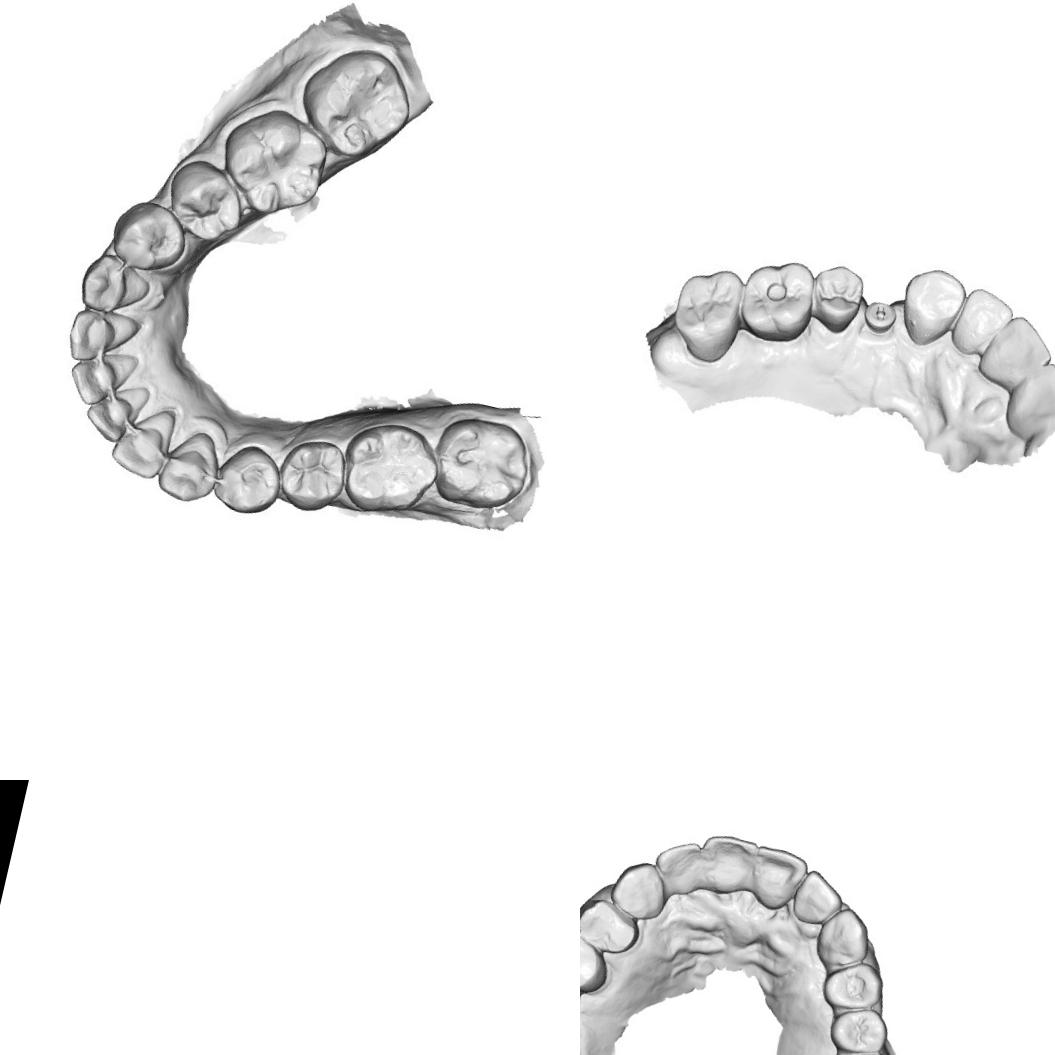canine: (891, 260, 972, 357), (154, 424, 226, 508), (75, 249, 156, 322), (809, 900, 878, 976), (604, 854, 673, 924)
implant_minus: (859, 296, 900, 340)
incisor: (973, 308, 1055, 396), (107, 399, 178, 482), (996, 352, 1055, 449), (62, 342, 140, 414), (948, 284, 1018, 364), (744, 839, 813, 920), (64, 303, 142, 372), (81, 375, 152, 449), (694, 827, 764, 897), (788, 864, 850, 932), (650, 833, 714, 895)
molar: (290, 36, 422, 169), (210, 98, 336, 225), (423, 408, 538, 520), (334, 412, 448, 524), (664, 260, 753, 368), (730, 250, 825, 350)
premolar: (160, 154, 252, 247), (105, 194, 194, 279), (271, 432, 353, 519), (208, 437, 288, 522), (803, 258, 869, 340), (817, 952, 889, 1018), (580, 892, 645, 957), (825, 1000, 895, 1055), (580, 922, 618, 998)
